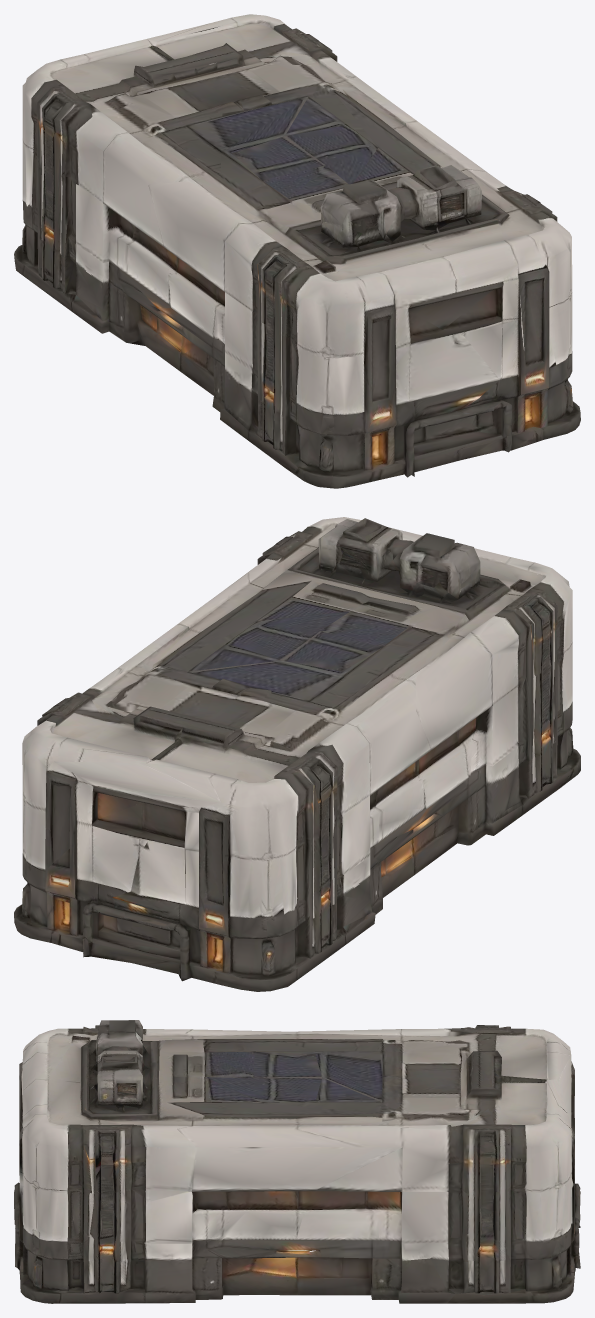
The model's file is adminWing.glb.
The picture shows the model from 3 angles, top to bottom: view 1: azimuth 30°, elevation 25°; view 2: azimuth 150°, elevation 25°; view 3: azimuth 270°, elevation 25°; orthographic projection. The views are drawn at different scales.
Visible parts, largest first — view 1: adminWing; view 2: adminWing; view 3: adminWing.
Boxes of the visible parts, x1,y1,x2,y2 form: adminWing: (14,14,580,488); adminWing: (14,517,580,991); adminWing: (14,1020,580,1303).
Size of the model in its own units: 17.68 by 14.53 by 36.
Materials: 1 (1 with a texture image).
